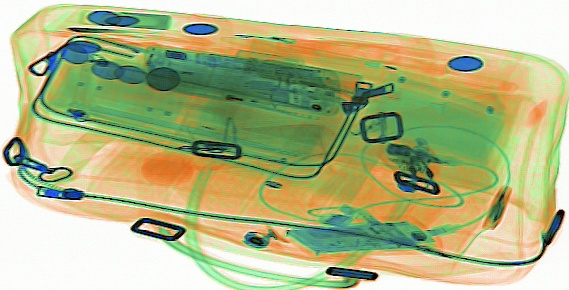lighter: (185, 71, 280, 111)
